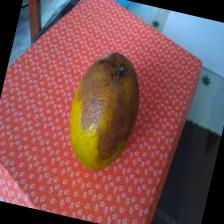Orange Rotten: (54, 34, 160, 182)
